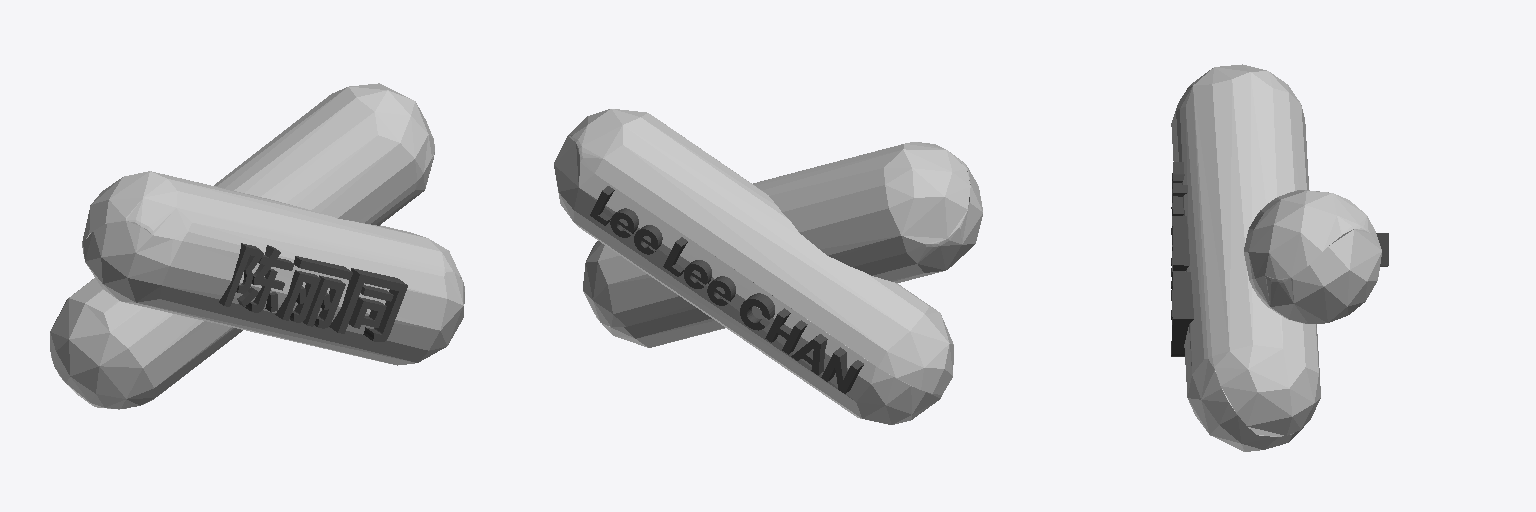
File: LeeLeeChan.obj
3 views of the same model, side by side, from view 1: azimuth 30°, elevation 25°; view 2: azimuth 150°, elevation 25°; view 3: azimuth 270°, elevation 25° (orthographic).
Parts seen in each view (by area): view 1: root_3, root_2, node_id427; view 2: root_2, root_3, node_id438; view 3: root_3, root_2, node_id427.
Part boxes in pixels (x1,y1,x2,y2): root_3: (82, 171, 464, 365); root_2: (50, 83, 434, 409); node_id427: (219, 243, 407, 341); root_2: (554, 109, 953, 424); root_3: (583, 142, 982, 347); node_id438: (590, 186, 863, 393); root_3: (1171, 64, 1320, 451); root_2: (1244, 190, 1381, 323); node_id427: (1171, 162, 1193, 356).
Size of the model in its own units: 0.289 by 0.1836 by 0.1445.